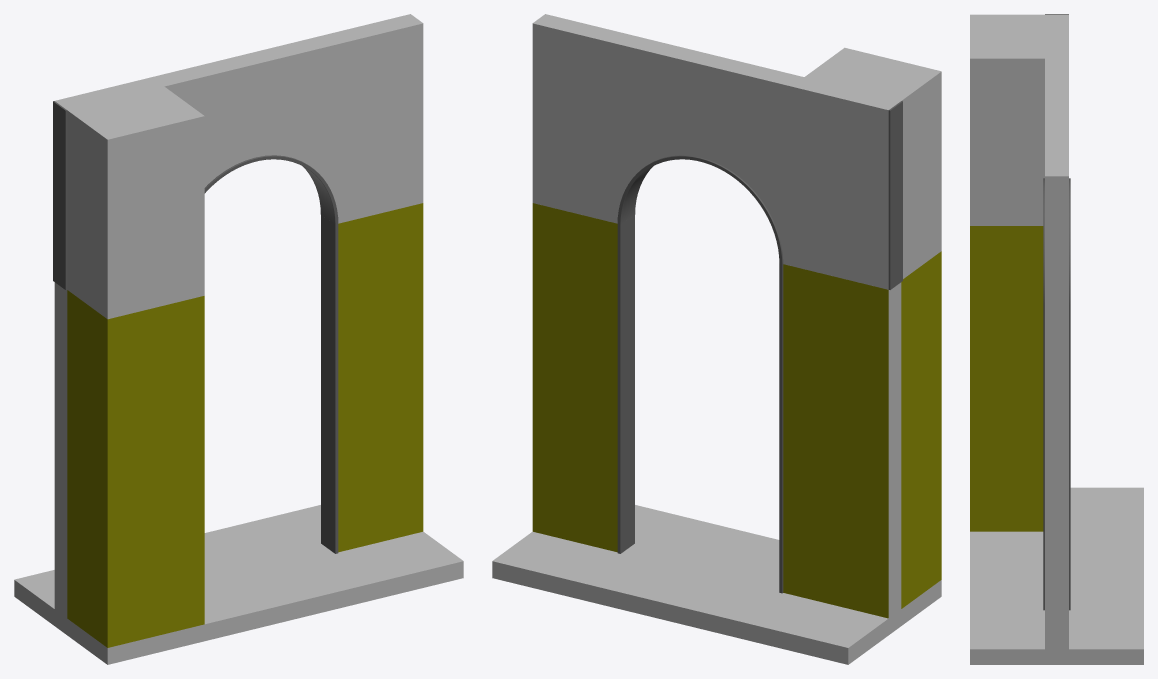
Rendered from арка_0.obj.
3 views of the same model, side by side, from view 1: azimuth 30°, elevation 25°; view 2: azimuth 150°, elevation 25°; view 3: azimuth 270°, elevation 25° (orthographic). The views are drawn at different scales.
Size of the model in its own units: 2.21 by 3.1 by 1.
